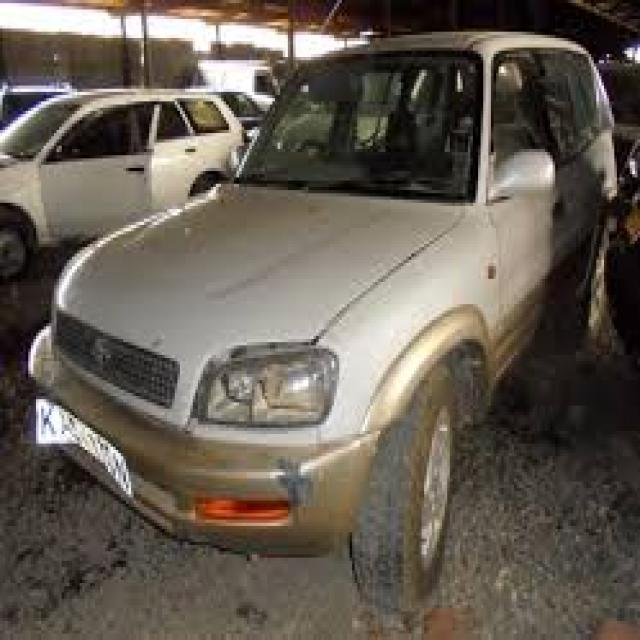minor: (259, 444, 329, 526)
